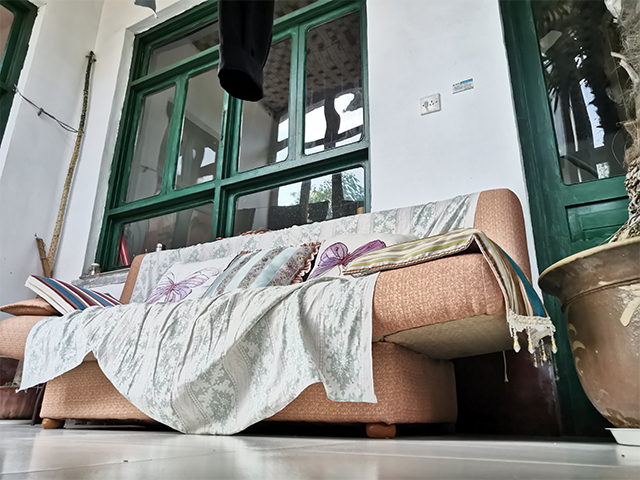sofa: (1, 186, 559, 439)
